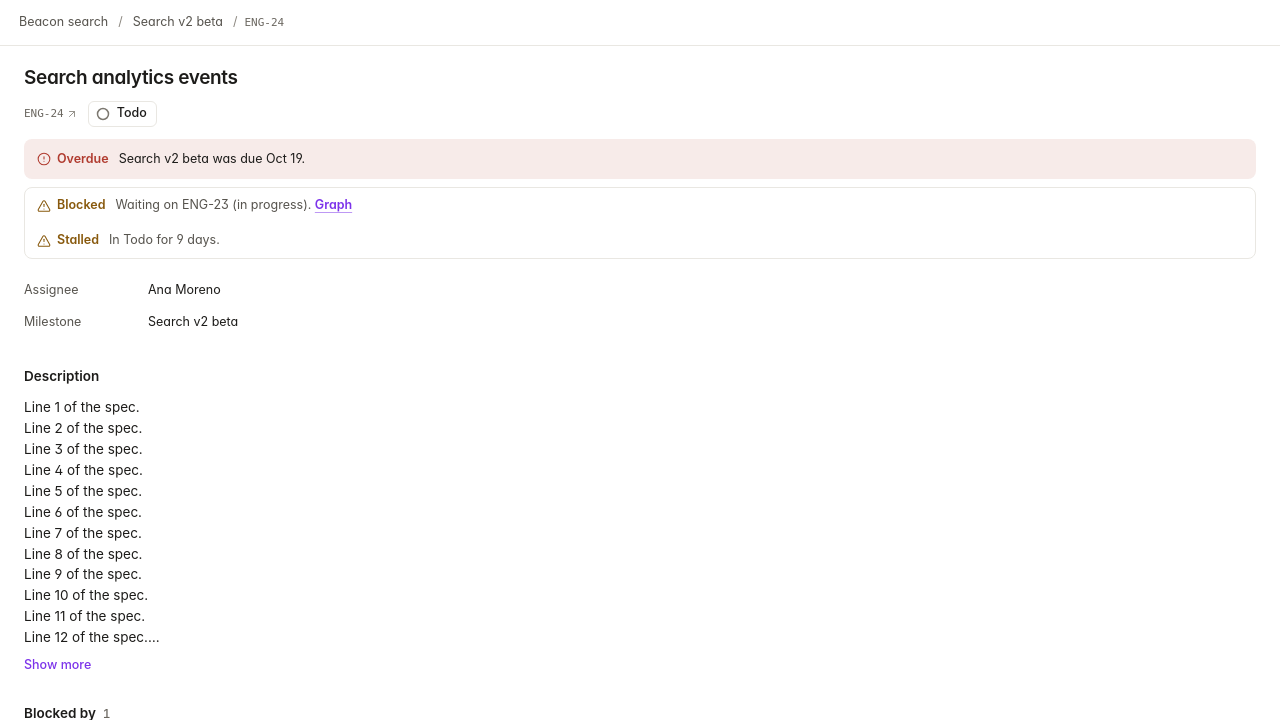
Test case: TaskDetail state per task › a new task starts with its description collapsed
Later steps or results of the test are not shown.
Click the button "Show more" at (58, 665), box [24,656,91,674]
(page scrolled)
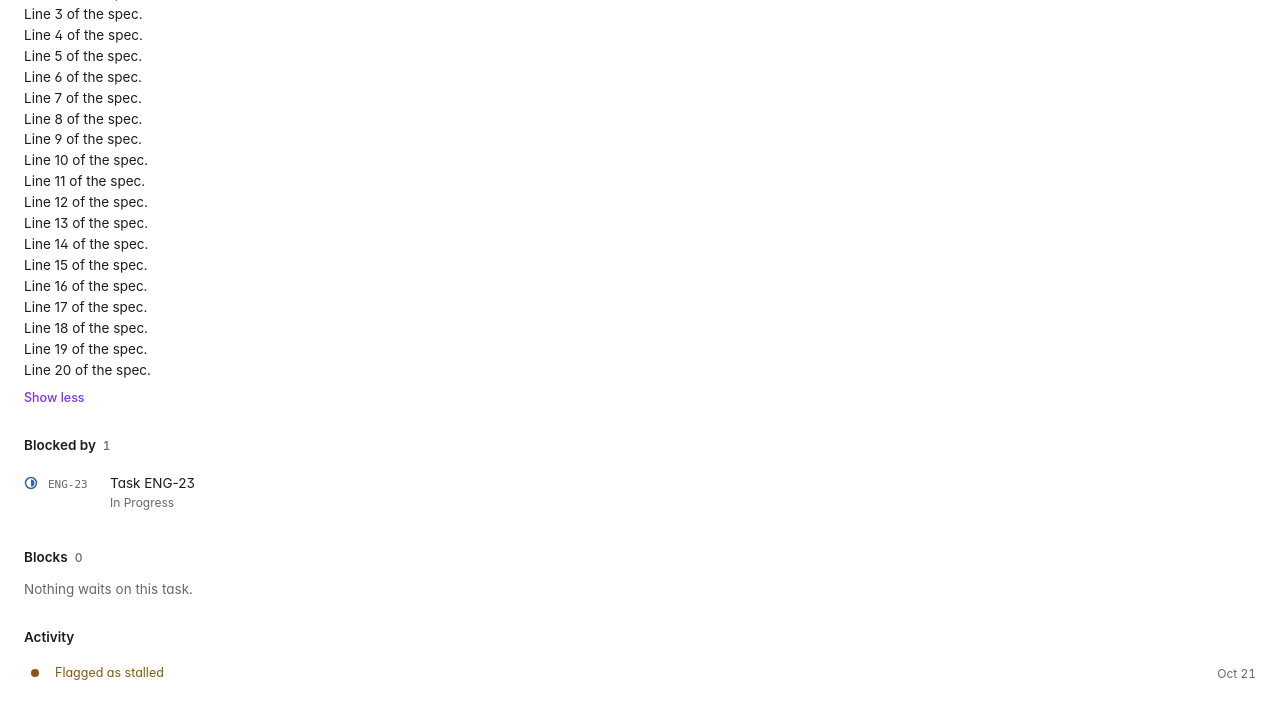
Result: the button "Show less" is shown at [24,388,85,407]
